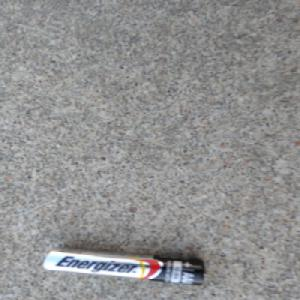Battery: (37, 246, 206, 284)
